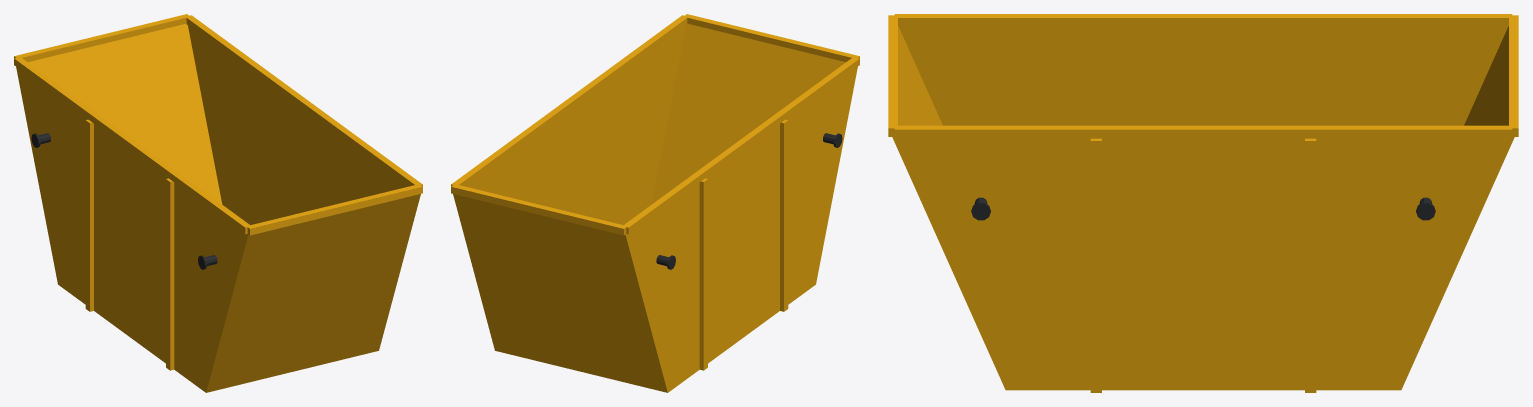
Rendered from plant.skip.18yd.glb.
3 renders of one model, left to right at view 1: azimuth 30°, elevation 25°; view 2: azimuth 150°, elevation 25°; view 3: azimuth 270°, elevation 25°, orthographic. The views are drawn at different scales.
Parts seen in each view (by area): view 1: main__plant_yellow, main__steel_dark; view 2: main__plant_yellow, main__steel_dark; view 3: main__plant_yellow, main__steel_dark.
Part boxes in pixels (x1,y1,x2,y2): main__plant_yellow: (14, 14, 422, 392); main__steel_dark: (31, 133, 217, 269); main__plant_yellow: (451, 14, 859, 392); main__steel_dark: (656, 133, 842, 269); main__plant_yellow: (888, 14, 1518, 392); main__steel_dark: (971, 197, 1435, 220).
Size of the model in its own units: 2.2 by 2.1 by 4.49.
